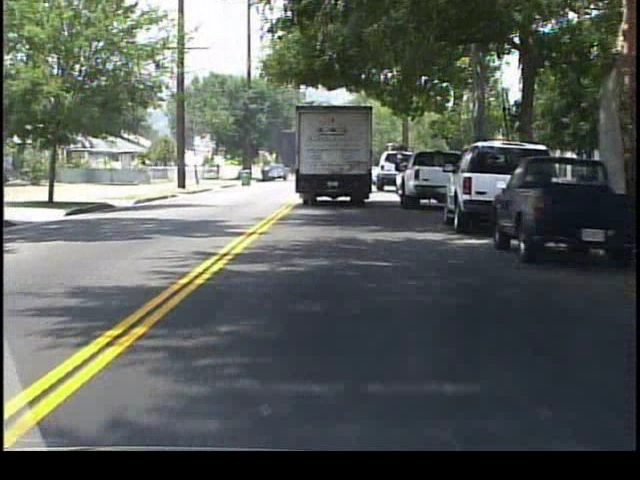person: (216, 163, 224, 182)
